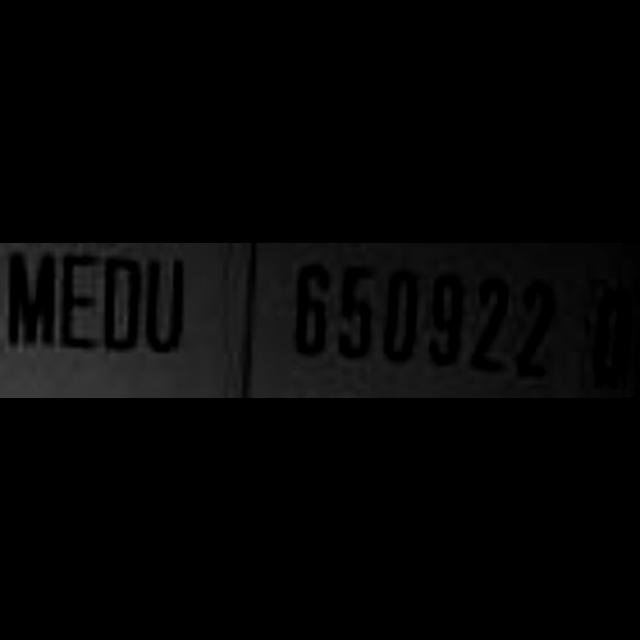0: (380, 261, 420, 363)
2: (515, 271, 563, 375), (472, 268, 512, 380)
5: (335, 256, 379, 364)
6: (290, 256, 332, 360)
9: (592, 284, 640, 392), (426, 266, 466, 372)
d: (107, 248, 145, 358)
e: (60, 246, 106, 354)
m: (0, 242, 60, 354)
u: (146, 250, 184, 358)
